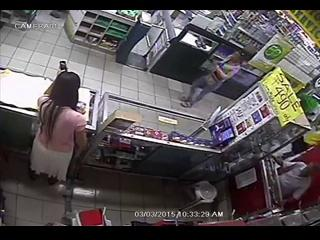Normal: (28, 66, 89, 186)
